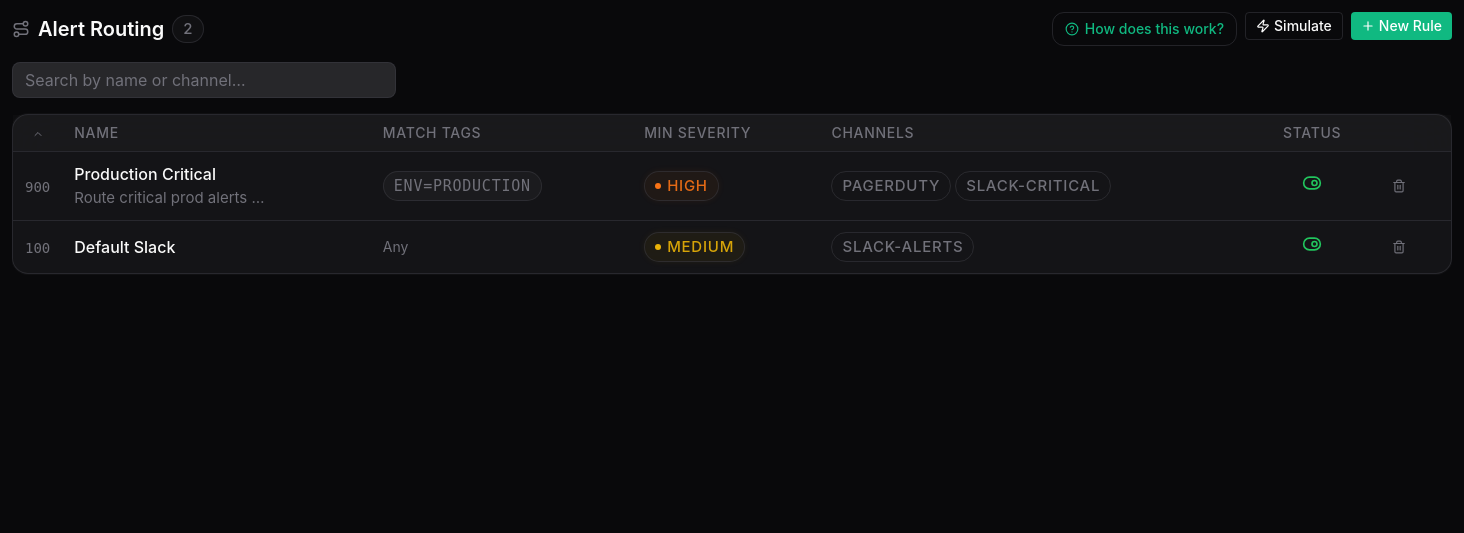
AlertRoutingPage › shows create form when New Rule clicked
The image size is (1464, 533).
Click the button "New Rule" at (1401, 26), box [1351,12,1452,40]
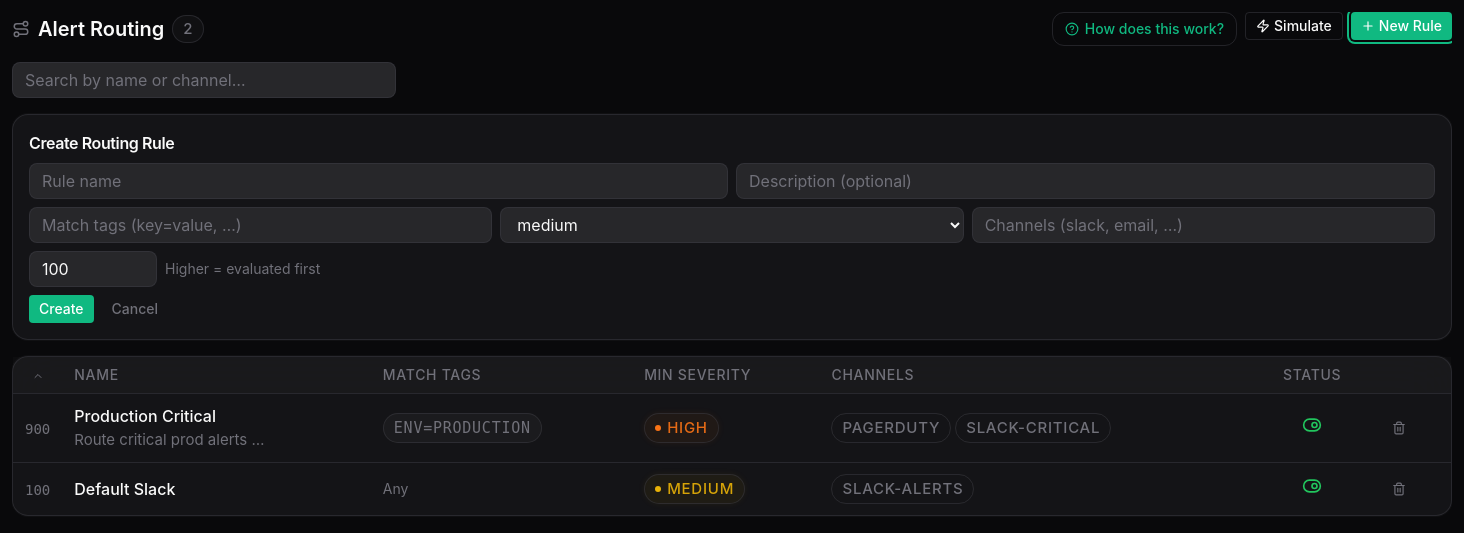
Check: the text "Create Routing Rule" is shown, box [29,133,174,153]
Check: the field named "Routing rule name" is shown, box [29,163,728,199]
Check: the field labelled "Channels" is shown, box [972,207,1435,243]
